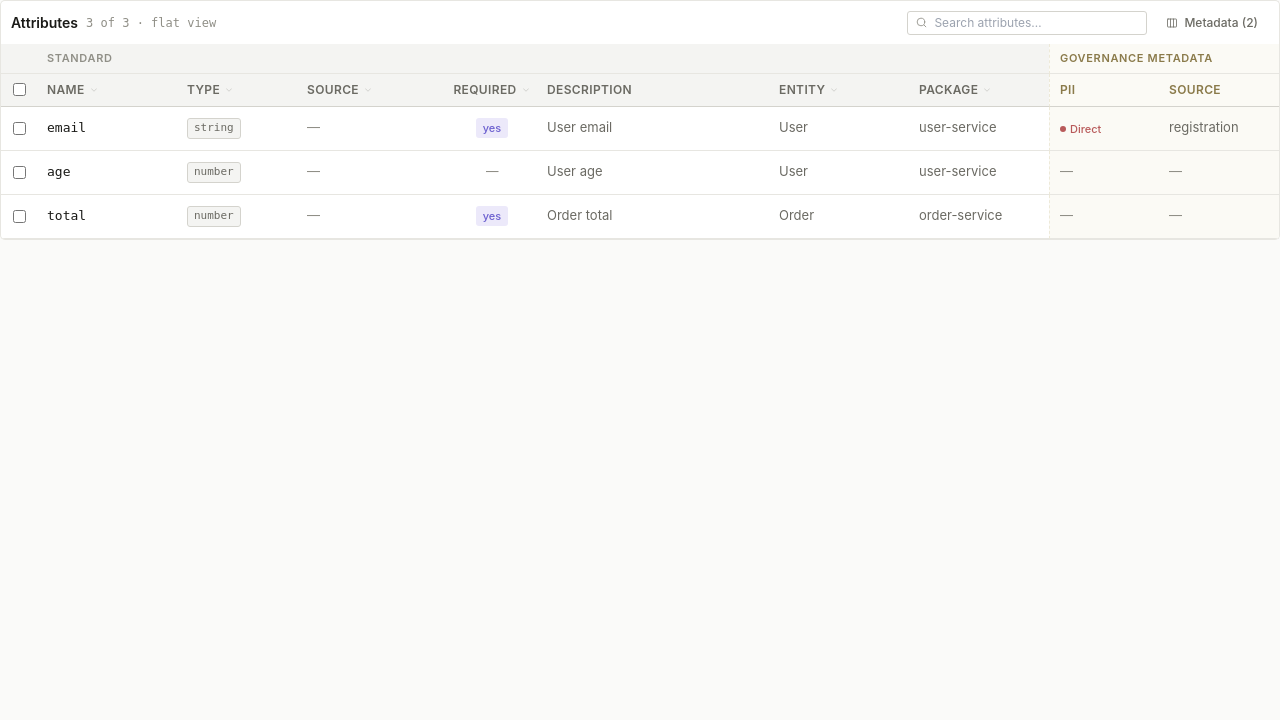
Test case: AttributeFlatTable › opens the side panel when a row is clicked and saves the new name
The image size is (1280, 720).
// Click the row → opens the side panel dialog.
Click the text "email".
click(67, 128)  # box [47, 118, 86, 138]
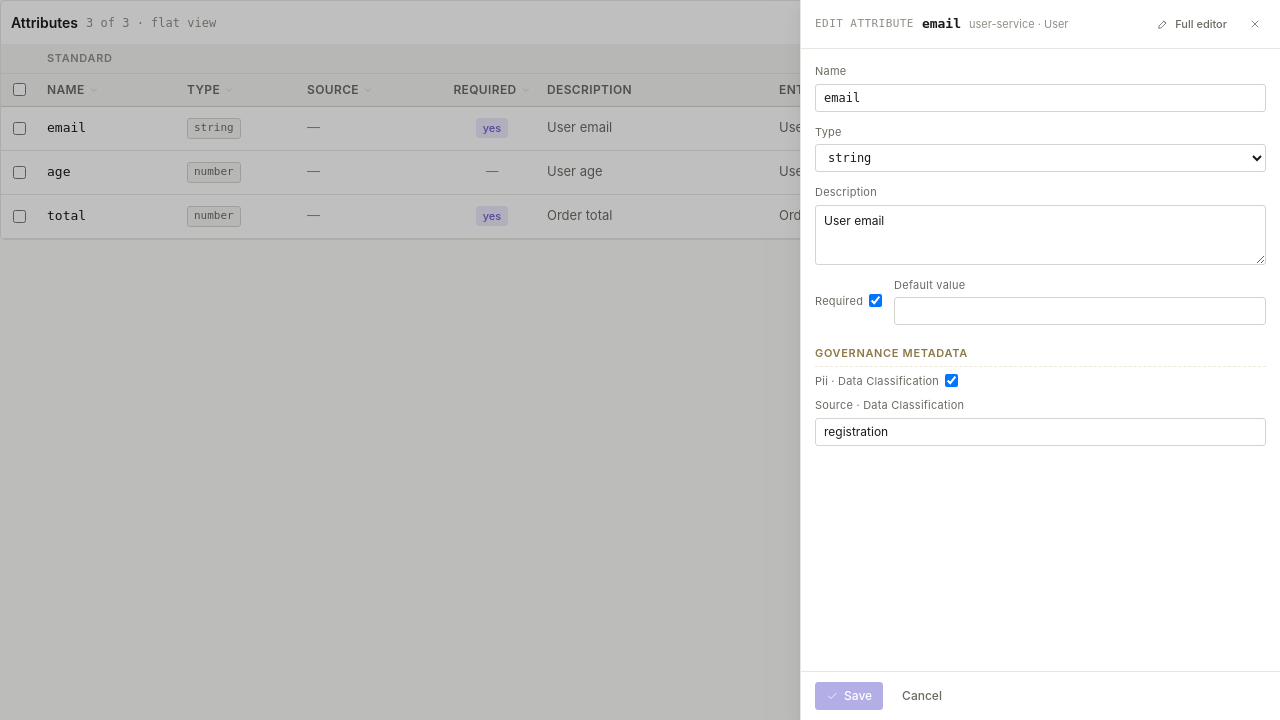
Expected: the dialog "edit attribute" is shown, [800, 0, 1279, 719]
Expected: the field labelled "Name" holds "email"
Replace the text in the field labelled "Name" with "email_address" at (1040, 98), box [815, 84, 1266, 112]
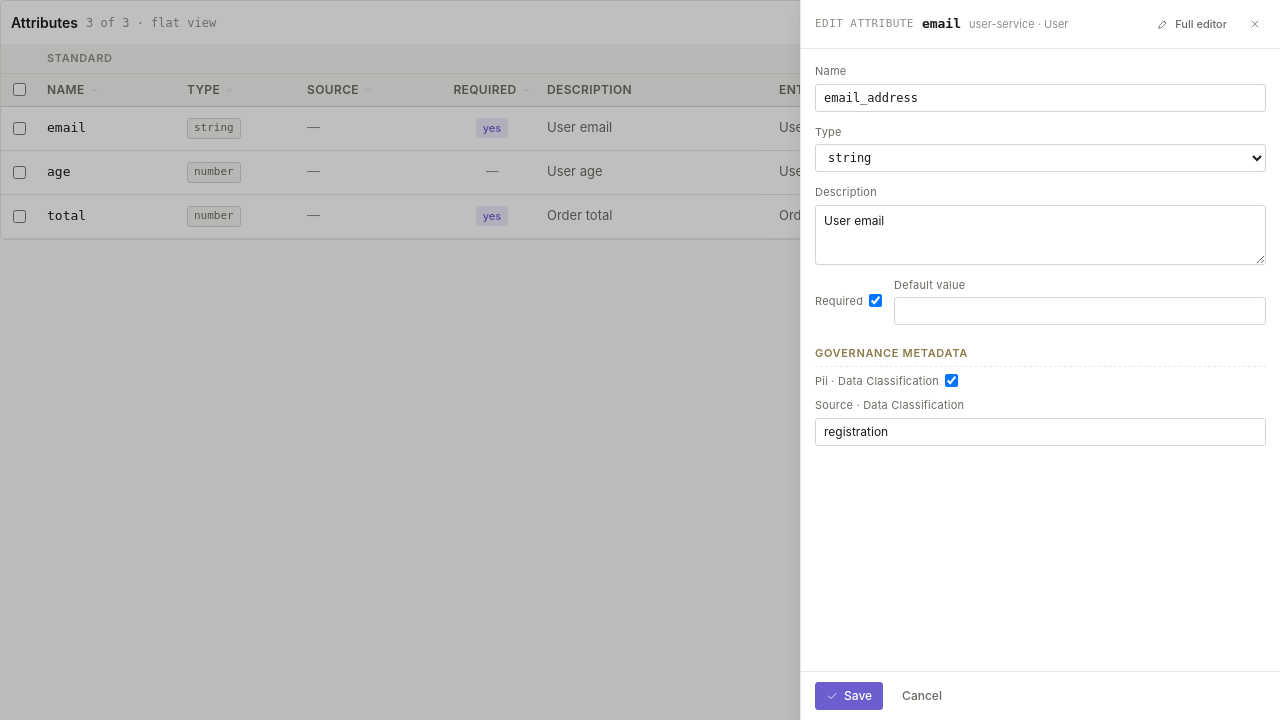
Click the button "Save".
click(849, 696)  # box [815, 682, 883, 710]
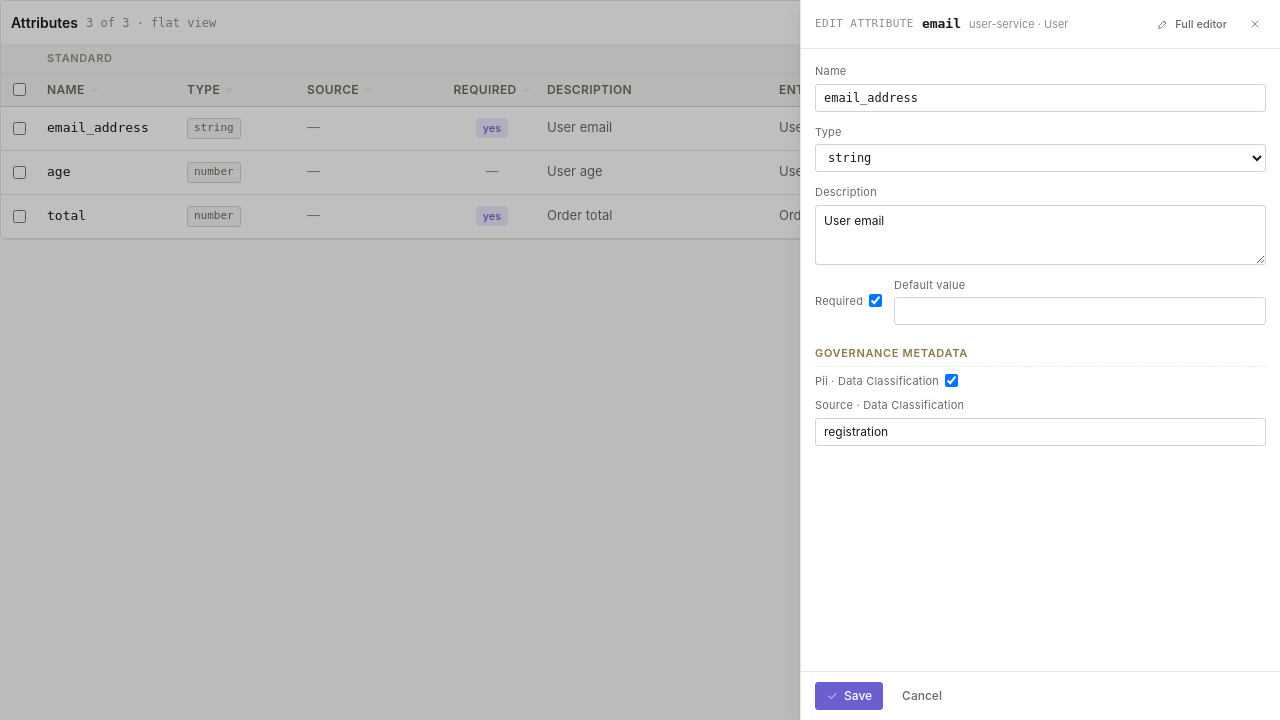
Expected: the text "email" reads "email_address", [47, 120, 149, 135]
